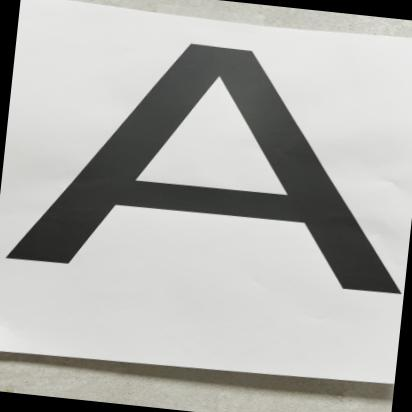seat: (0, 9, 412, 367), (0, 4, 412, 323)
